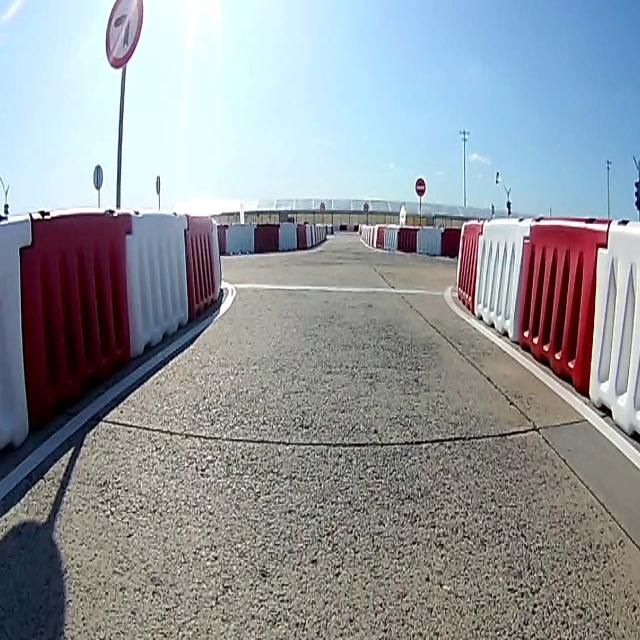girisyok: (414, 176, 427, 199)
soladonulmez: (102, 4, 140, 63)
